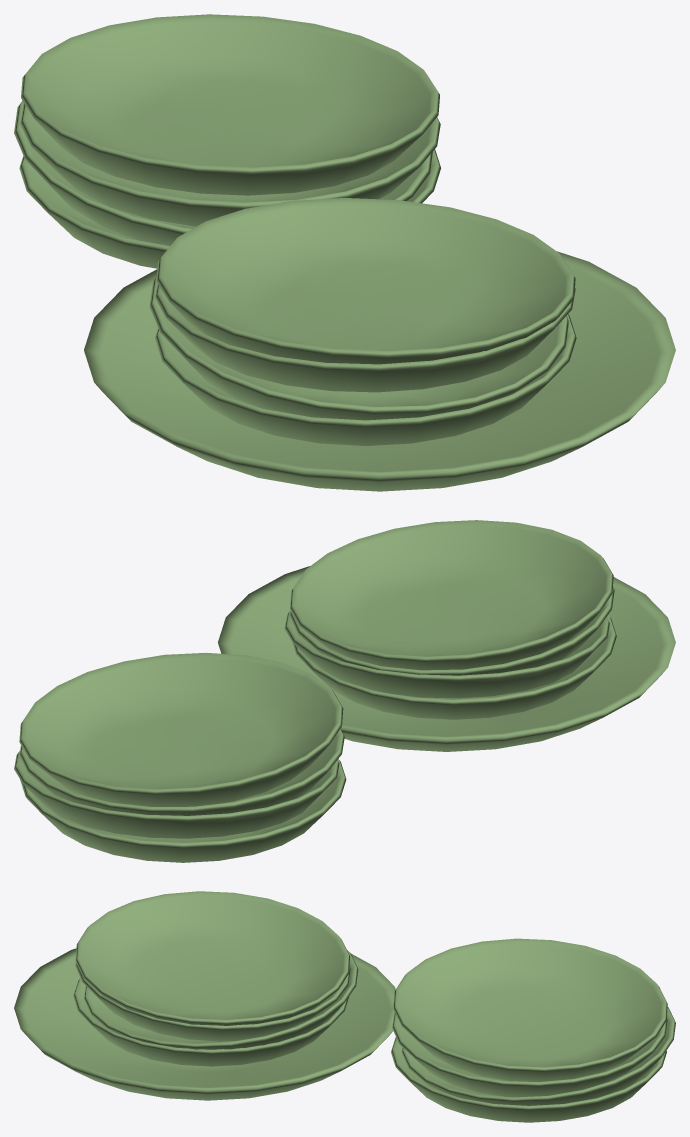
Rendered from Jar_Break_05B_Lod0.fbx.
3 views of the same model, one above another, from view 1: azimuth 30°, elevation 25°; view 2: azimuth 150°, elevation 25°; view 3: azimuth 270°, elevation 25° (orthographic). The views are drawn at different scales.
Parts seen in each view (by area): view 1: Jar_Break_05B_Lod0; view 2: Jar_Break_05B_Lod0; view 3: Jar_Break_05B_Lod0.
Part boxes in pixels (<box>): Jar_Break_05B_Lod0: <box>14,14,675,491</box>; Jar_Break_05B_Lod0: <box>14,520,675,862</box>; Jar_Break_05B_Lod0: <box>14,891,675,1122</box>.
Bounding box in the file's own units: 34.96 × 10.19 × 57.21.
